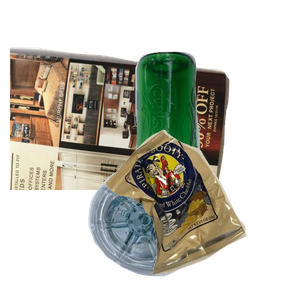glass: (129, 49, 300, 229)
paper: (10, 44, 232, 224)
plastic: (86, 163, 282, 300)
trash: (101, 127, 300, 300)
